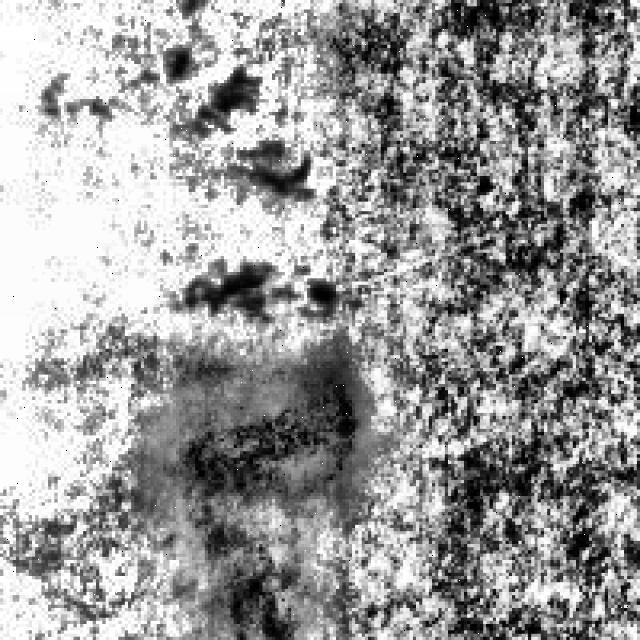Scratches: (154, 348, 362, 499), (198, 531, 304, 637)
